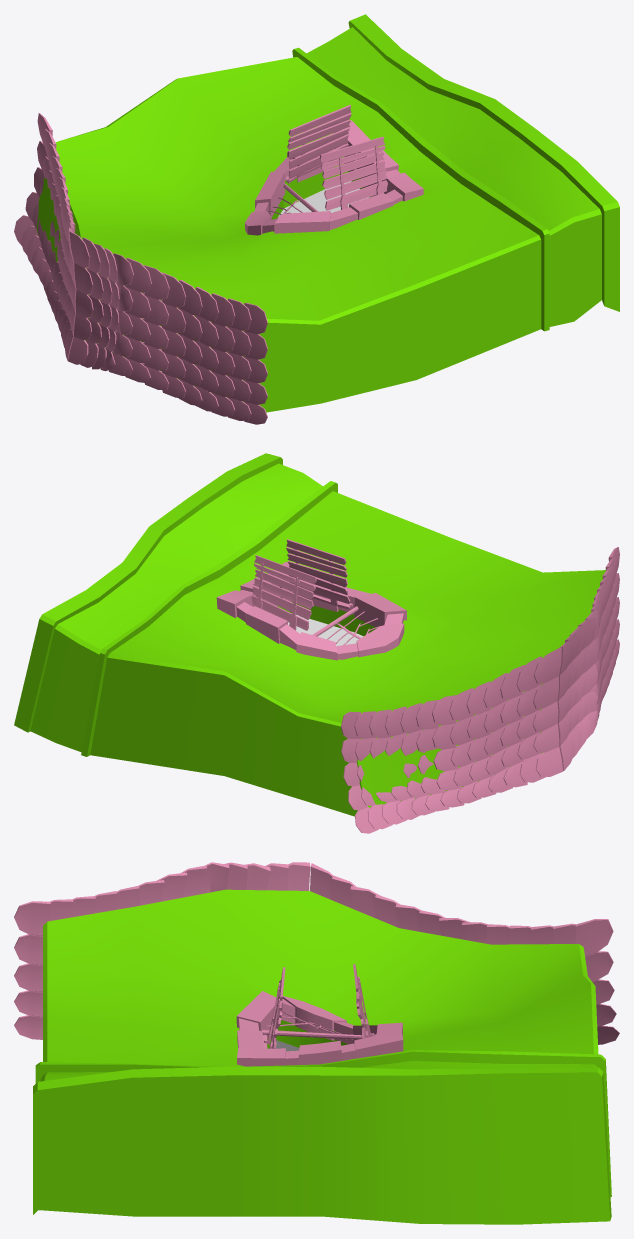
File: CutHouse.fbx
The picture shows the model from 3 angles, top to bottom: view 1: azimuth 30°, elevation 25°; view 2: azimuth 150°, elevation 25°; view 3: azimuth 270°, elevation 25°; orthographic projection. The views are drawn at different scales.
Parts seen in each view (by area): view 1: MainBuilding.002, Roof Tiling.001, ShuttersSide, WindowRockFrame, InteriorSide.001; view 2: MainBuilding.002, Roof Tiling.001, WindowRockFrame, ShuttersSide, InteriorSide.001, WindowFFrame, ShuttersSideHinge; view 3: MainBuilding.002, Roof Tiling.001, WindowRockFrame, WindowFFrame, ShuttersSide, ShuttersSideHinge.
Part boxes in pixels (left/top/right/bottom): MainBuilding.002: left=36, top=14, right=619, bottom=412; Roof Tiling.001: left=14, top=113, right=267, bottom=424; ShuttersSide: left=287, top=105, right=387, bottom=210; WindowRockFrame: left=245, top=120, right=423, bottom=235; InteriorSide.001: left=278, top=181, right=368, bottom=217; MainBuilding.002: left=14, top=453, right=605, bottom=816; Roof Tiling.001: left=341, top=547, right=619, bottom=833; WindowRockFrame: left=216, top=562, right=406, bottom=660; ShuttersSide: left=251, top=539, right=350, bottom=630; InteriorSide.001: left=288, top=614, right=363, bottom=646; WindowFFrame: left=312, top=606, right=383, bottom=645; ShuttersSideHinge: left=255, top=548, right=337, bottom=630; MainBuilding.002: left=33, top=889, right=611, bottom=1224; Roof Tiling.001: left=14, top=862, right=619, bottom=1044; WindowRockFrame: left=236, top=991, right=403, bottom=1066; WindowFFrame: left=262, top=1011, right=362, bottom=1039; ShuttersSide: left=271, top=964, right=366, bottom=1048; ShuttersSideHinge: left=267, top=976, right=370, bottom=1048.
Size of the model in its own units: 159 by 163 by 59.21.
